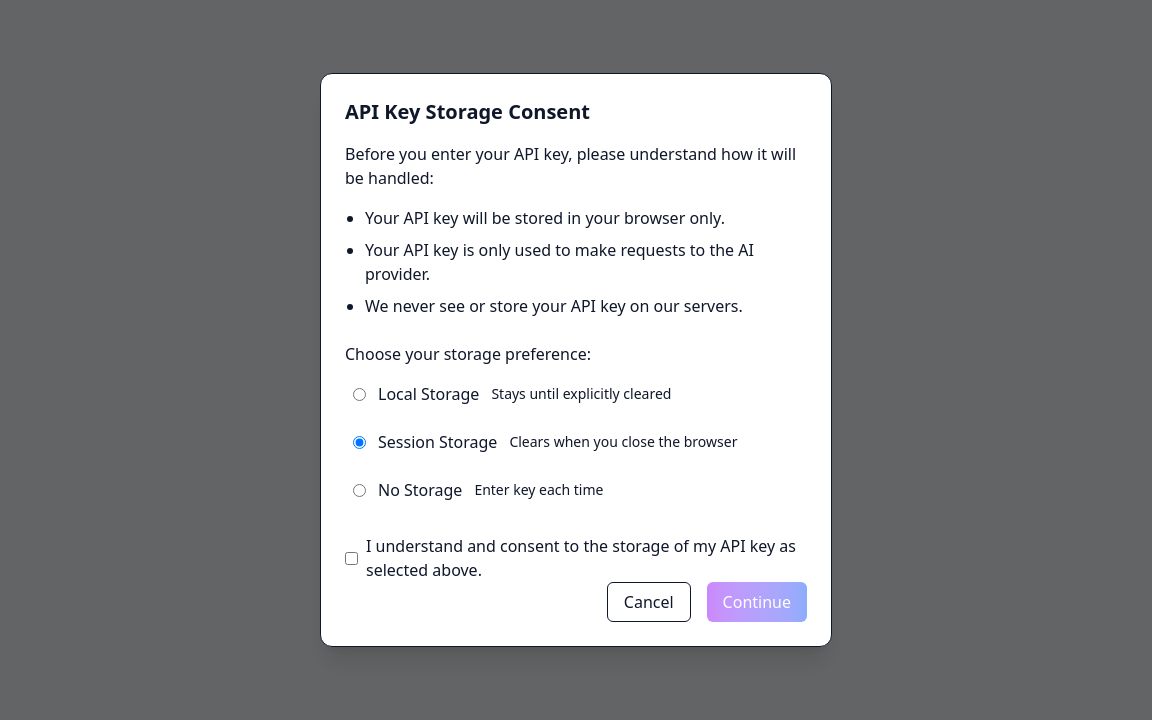
Test: ApiKeyConsentModal › enables continue button when consent checkbox is checked
Expected: the button "Continue" is disabled, [707,582,807,622]
# Check the consent checkbox
Click the checkbox: (352, 558) [345,552,358,564]
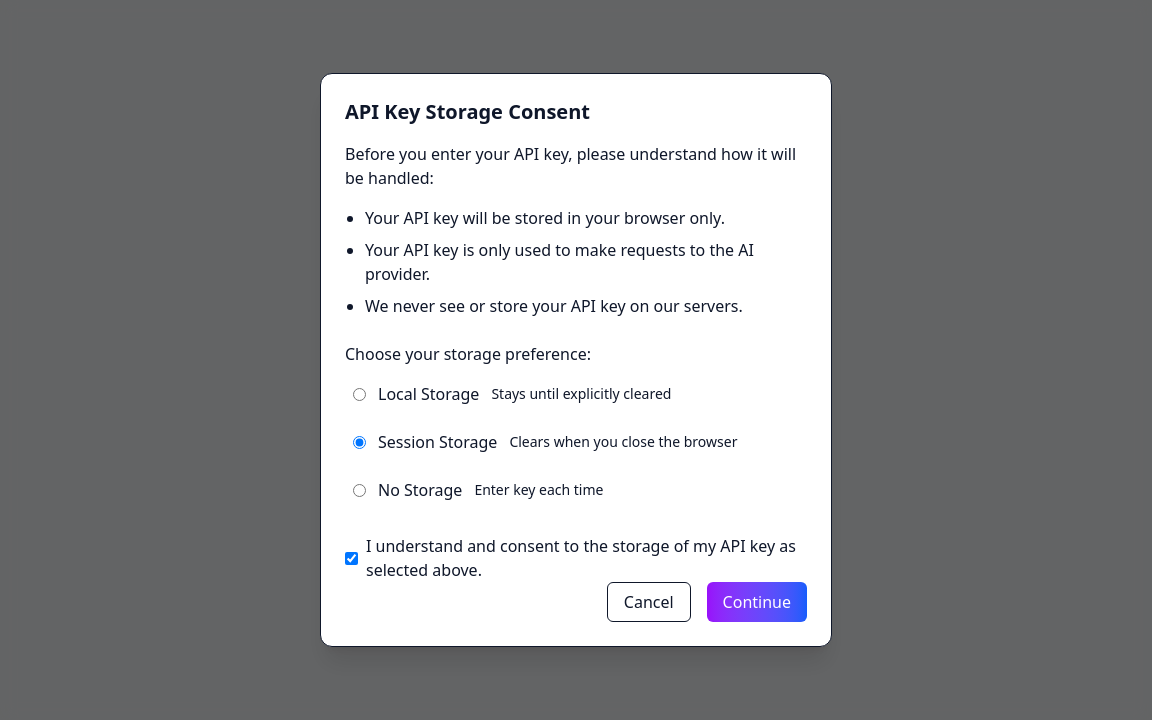
Now the button "Continue" is enabled, box [707,582,807,622]
